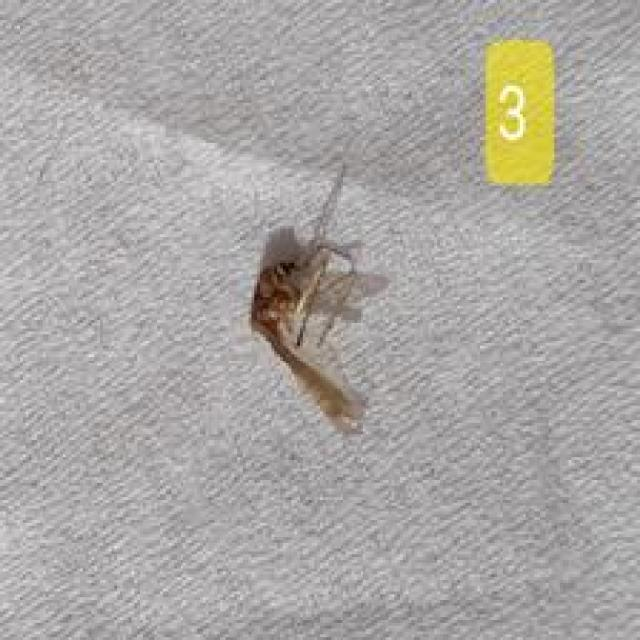Culex: (246, 158, 386, 436)
